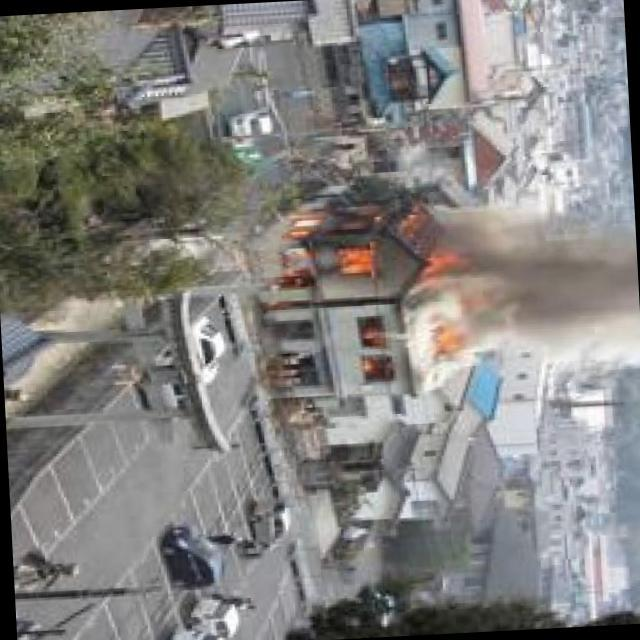Fire: (275, 194, 450, 302)
